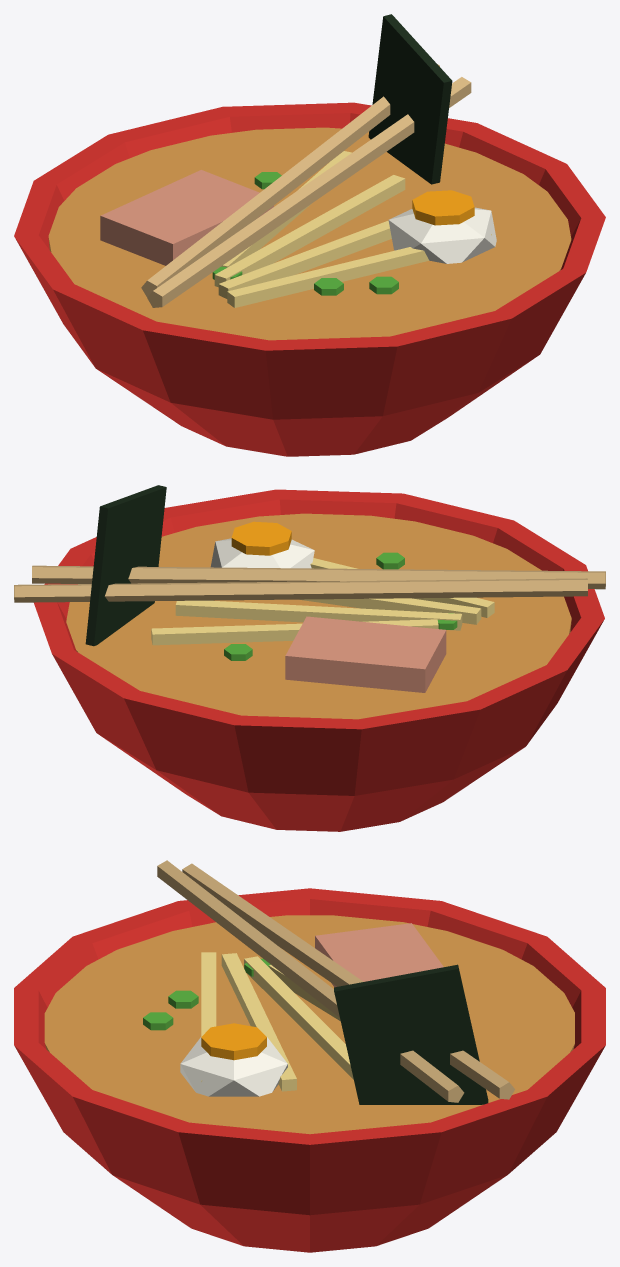
Rendered from ramen.glb.
3 renders of one model, top to bottom at view 1: azimuth 30°, elevation 25°; view 2: azimuth 150°, elevation 25°; view 3: azimuth 270°, elevation 25°, orthographic. The views are drawn at different scales.
Parts seen in each view (by area): view 1: ramen_bowl; view 2: ramen_bowl; view 3: ramen_bowl.
Boxes of the visible parts, x1=… form: ramen_bowl: x1=14, y1=14, x2=605, y2=456; ramen_bowl: x1=14, y1=485, x2=605, y2=831; ramen_bowl: x1=14, y1=860, x2=605, y2=1252.
Size of the model in its own units: 0.24 by 0.1344 by 0.234.
